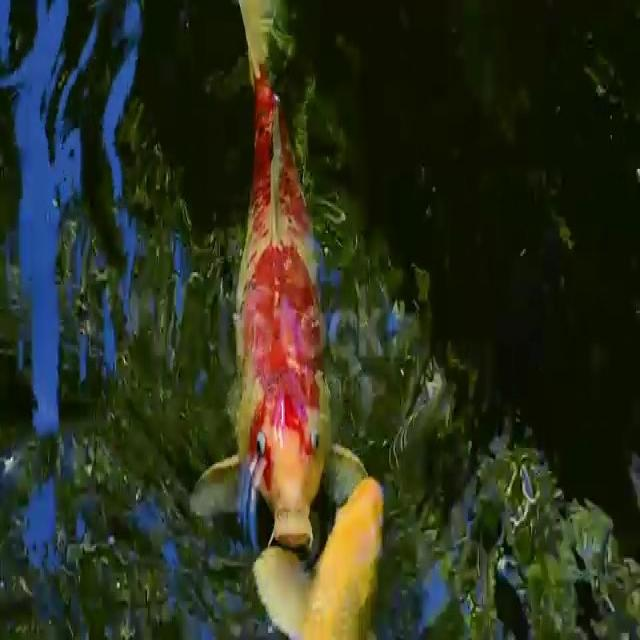fish: (209, 0, 346, 546), (248, 482, 405, 640)
